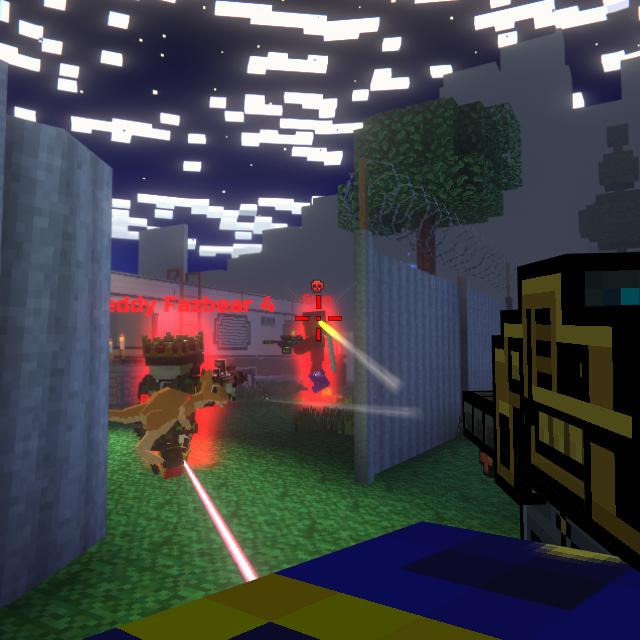Enemy: (141, 334, 227, 475), (296, 310, 336, 394)
